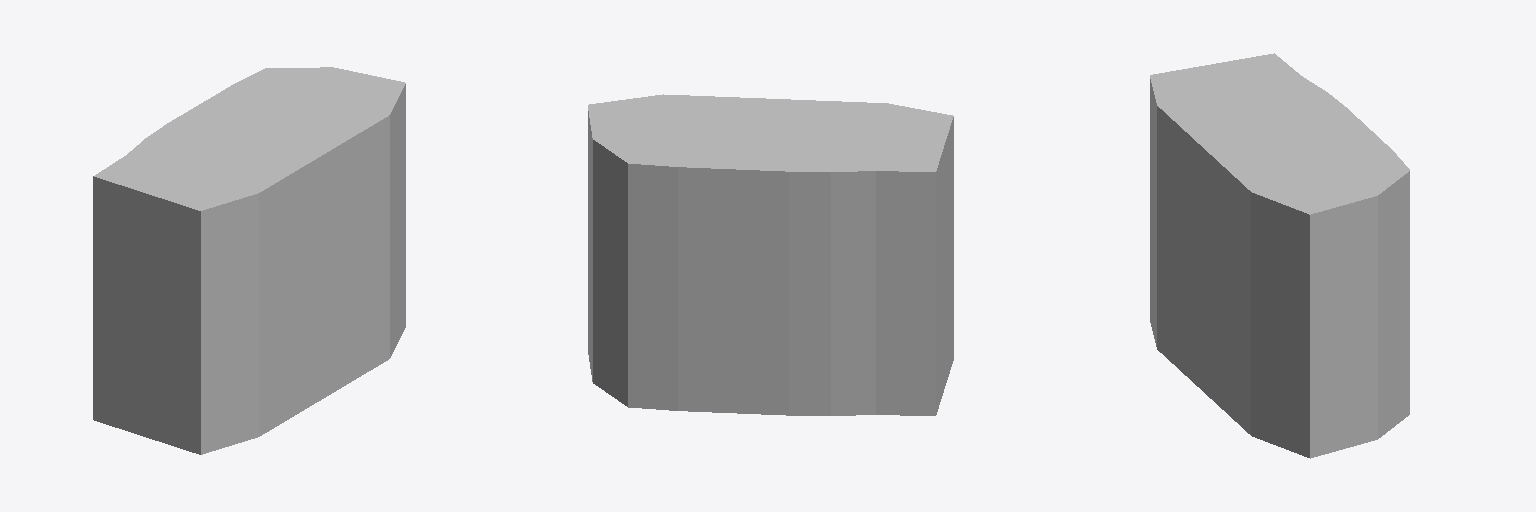
File: PolyShape-2.obj
3 renders of one model, left to right at view 1: azimuth 30°, elevation 25°; view 2: azimuth 150°, elevation 25°; view 3: azimuth 270°, elevation 25°, orthographic.
Visible parts, largest first — view 1: PolyShape-2; view 2: PolyShape-2; view 3: PolyShape-2.
Boxes of the visible parts, x1,y1,x2,y2 form: PolyShape-2: [93, 67, 405, 454]; PolyShape-2: [588, 94, 953, 415]; PolyShape-2: [1150, 53, 1409, 458].
Bounding box in the file's own units: 54.12 × 38.15 × 36.98.